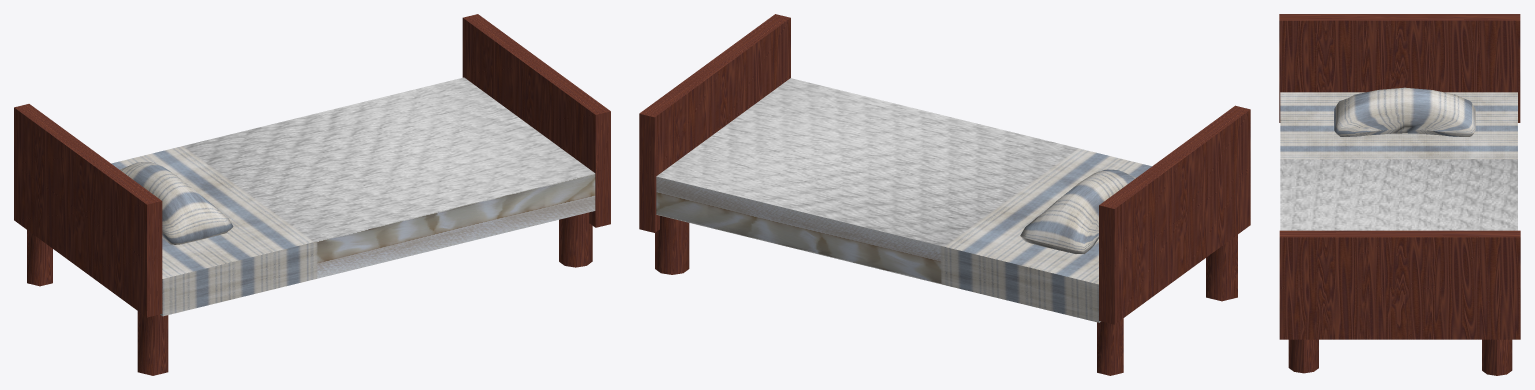
File: bed.obj
3 renders of one model, left to right at view 1: azimuth 30°, elevation 25°; view 2: azimuth 150°, elevation 25°; view 3: azimuth 270°, elevation 25°, orthographic. The views are drawn at different scales.
Visible parts, largest first — view 1: prim5, prim6, prim7, prim2, prim1, prim4, prim0; view 2: prim5, prim6, prim7, prim2, prim3, prim1, prim0; view 3: prim5, prim7, prim6, prim2, prim3, prim4.
Part boxes in pixels (box(x1,y1,x2,y2)): prim5: box(111, 77, 595, 316); prim6: box(14, 104, 162, 317); prim7: box(462, 14, 610, 227); prim2: box(120, 162, 233, 244); prim1: box(137, 311, 168, 375); prim4: box(559, 212, 592, 267); prim0: box(27, 230, 52, 286); prim5: box(656, 78, 1151, 322); prim6: box(1099, 105, 1250, 324); prim7: box(639, 14, 790, 232); prim2: box(1020, 169, 1135, 253); prim3: box(655, 216, 689, 274); prim1: box(1206, 234, 1237, 301); prim0: box(1097, 318, 1123, 375); prim5: box(1280, 92, 1517, 230); prim7: box(1279, 230, 1520, 339); prim6: box(1279, 14, 1520, 122); prim2: box(1334, 87, 1475, 136); prim3: box(1482, 339, 1512, 375); prim4: box(1288, 339, 1318, 373).
Size of the model in its own units: 3.6 by 1.31 by 1.79.
